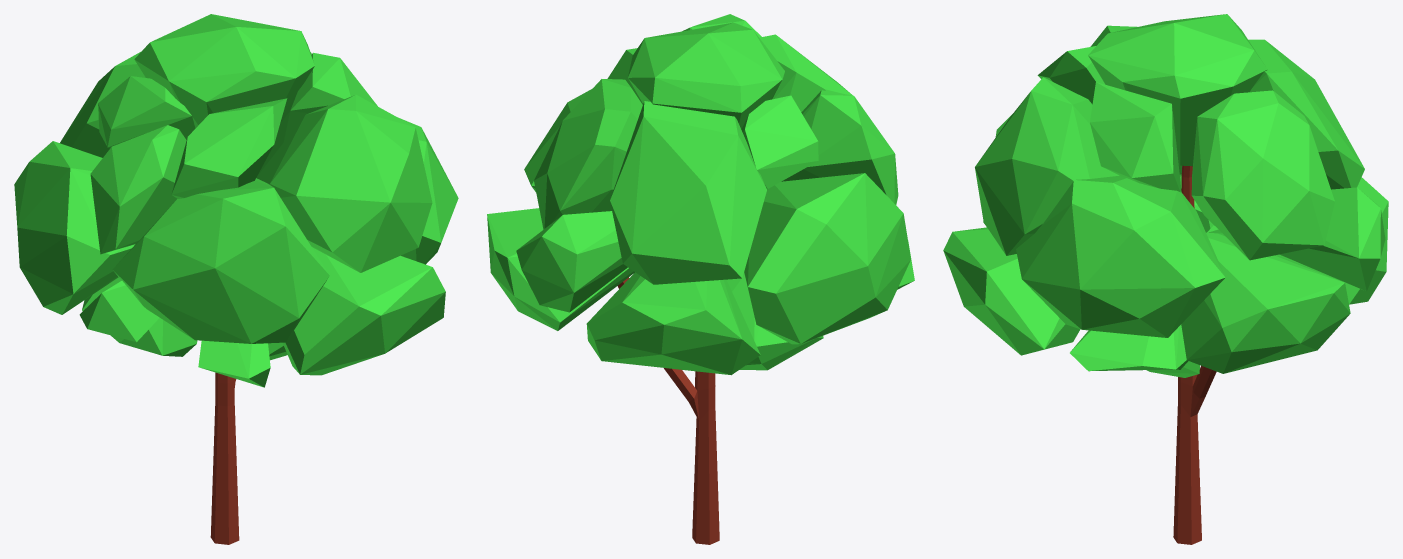
The model's file is pohon 2.fbx.
3 renders of one model, left to right at view 1: azimuth 30°, elevation 25°; view 2: azimuth 150°, elevation 25°; view 3: azimuth 270°, elevation 25°, orthographic. The views are drawn at different scales.
Parts seen in each view (by area): view 1: Tree Type0 06 Model; view 2: Tree Type0 06 Model; view 3: Tree Type0 06 Model.
Boxes of the visible parts, x1,y1,x2,y2 form: Tree Type0 06 Model: (14, 14, 458, 544); Tree Type0 06 Model: (487, 14, 914, 544); Tree Type0 06 Model: (943, 14, 1388, 544).
Size of the model in its own units: 1045 by 1351 by 1052.
